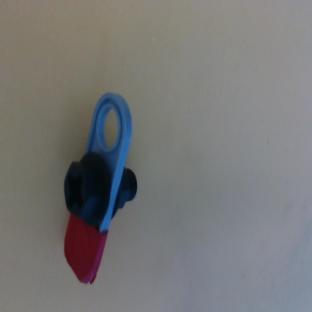part_1_good: (26, 89, 170, 286)
